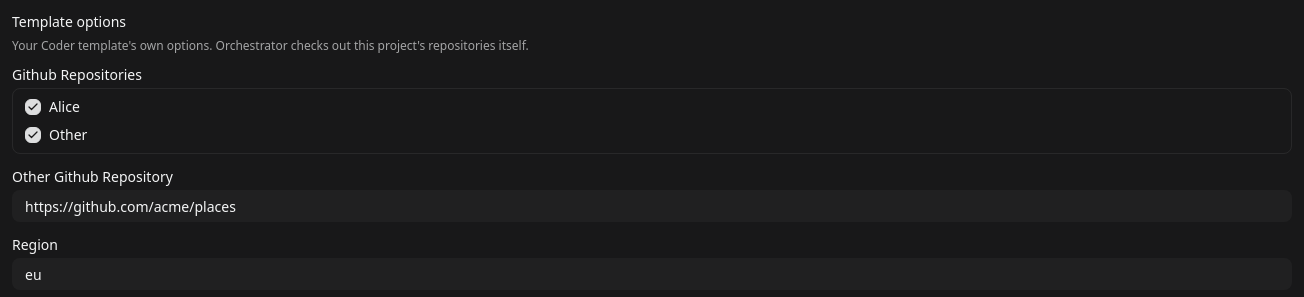
Test: CoderTemplateOptions with dynamic parameters › drops the value of a parameter that no longer applies after an edit
Expected: the field labelled "Other Github Repository" holds "https://github.com/acme/places", [12,190,1292,222]
Click the 2nd checkbox named "Other" at (33, 135), box [25,127,41,143]
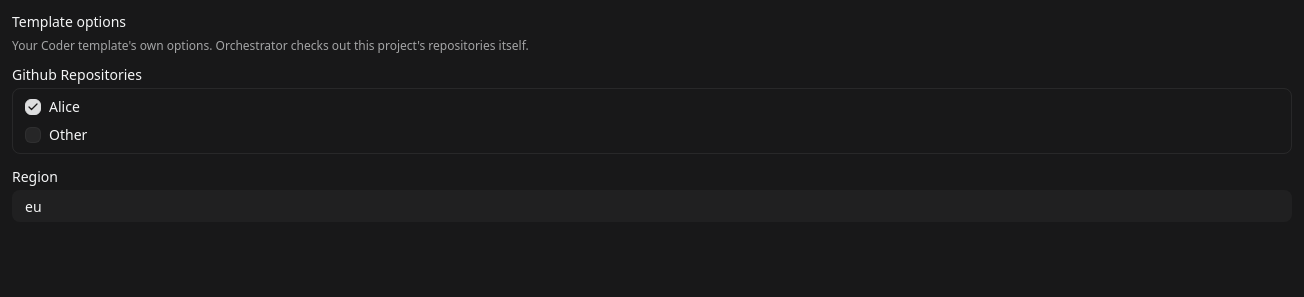
Expected: the text "Other Github Repository" is gone
